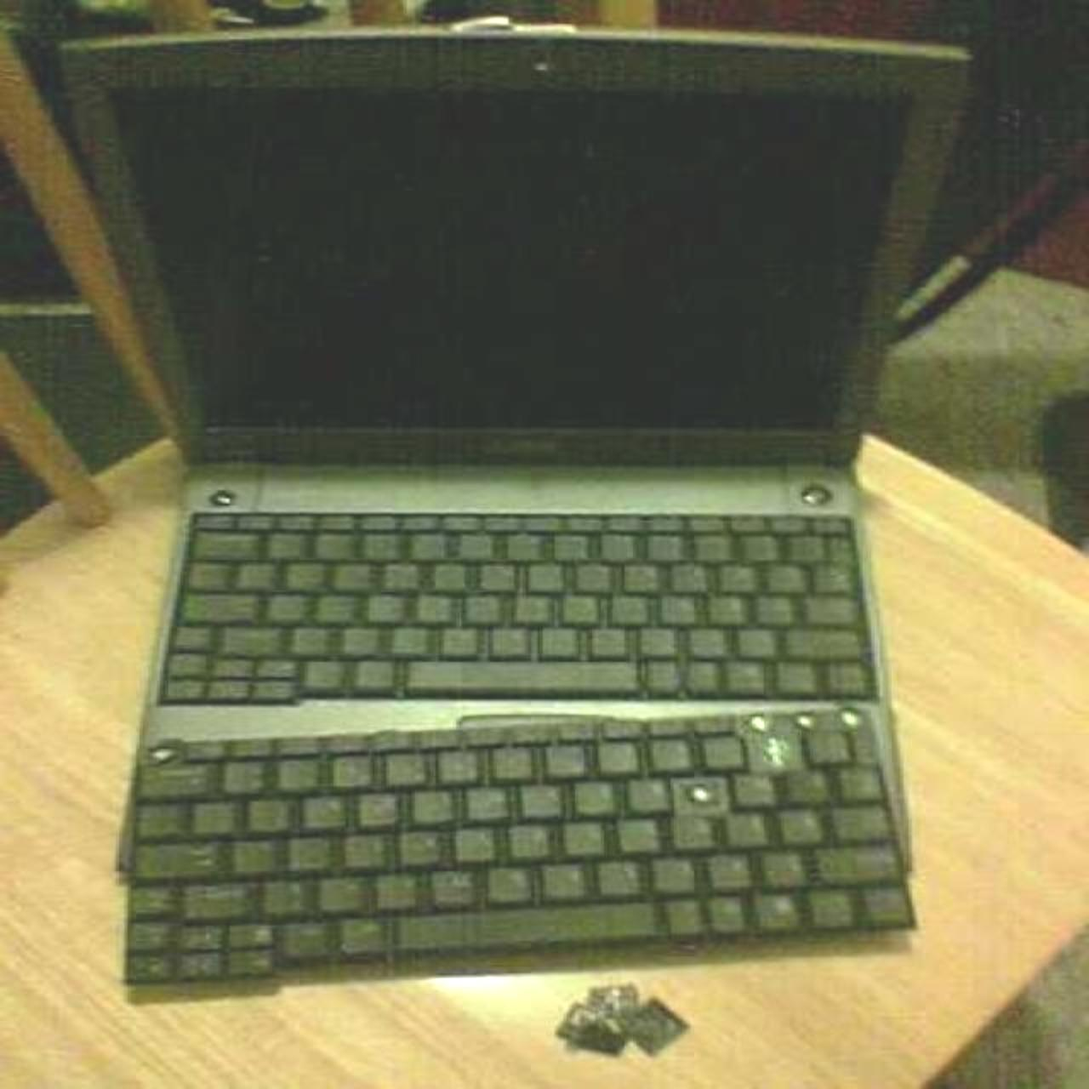laptop: (54, 54, 953, 790)
